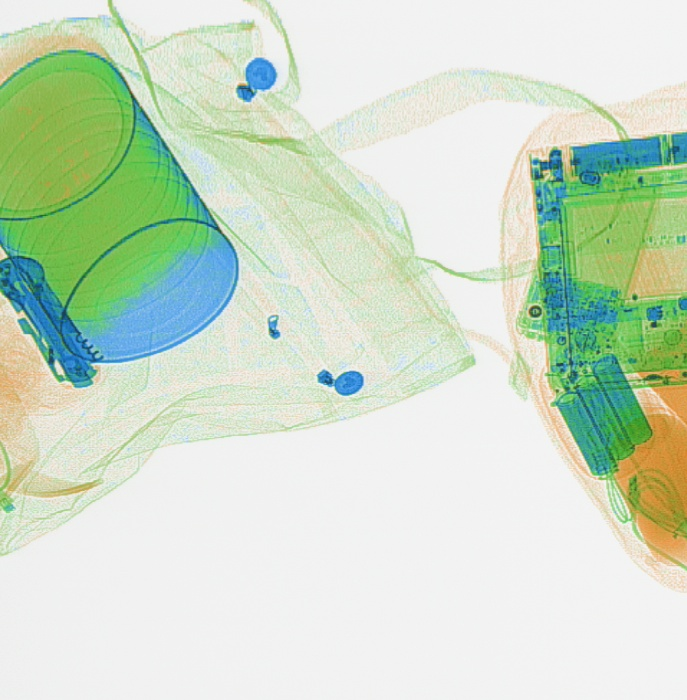knife: (1, 252, 102, 389)
powerbank: (532, 323, 656, 480)
